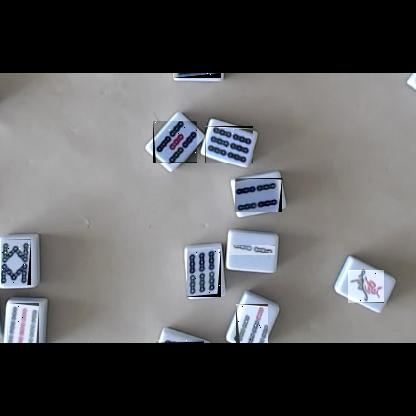1s: (348, 270, 384, 303)
2s: (230, 246, 275, 258)
4s: (235, 178, 282, 212)
5s: (153, 121, 197, 163)
6s: (205, 126, 253, 163), (187, 249, 221, 297)
7s: (236, 304, 268, 343), (174, 73, 221, 78)
8s: (1, 239, 31, 285), (156, 340, 204, 343)
9s: (8, 303, 39, 343)
